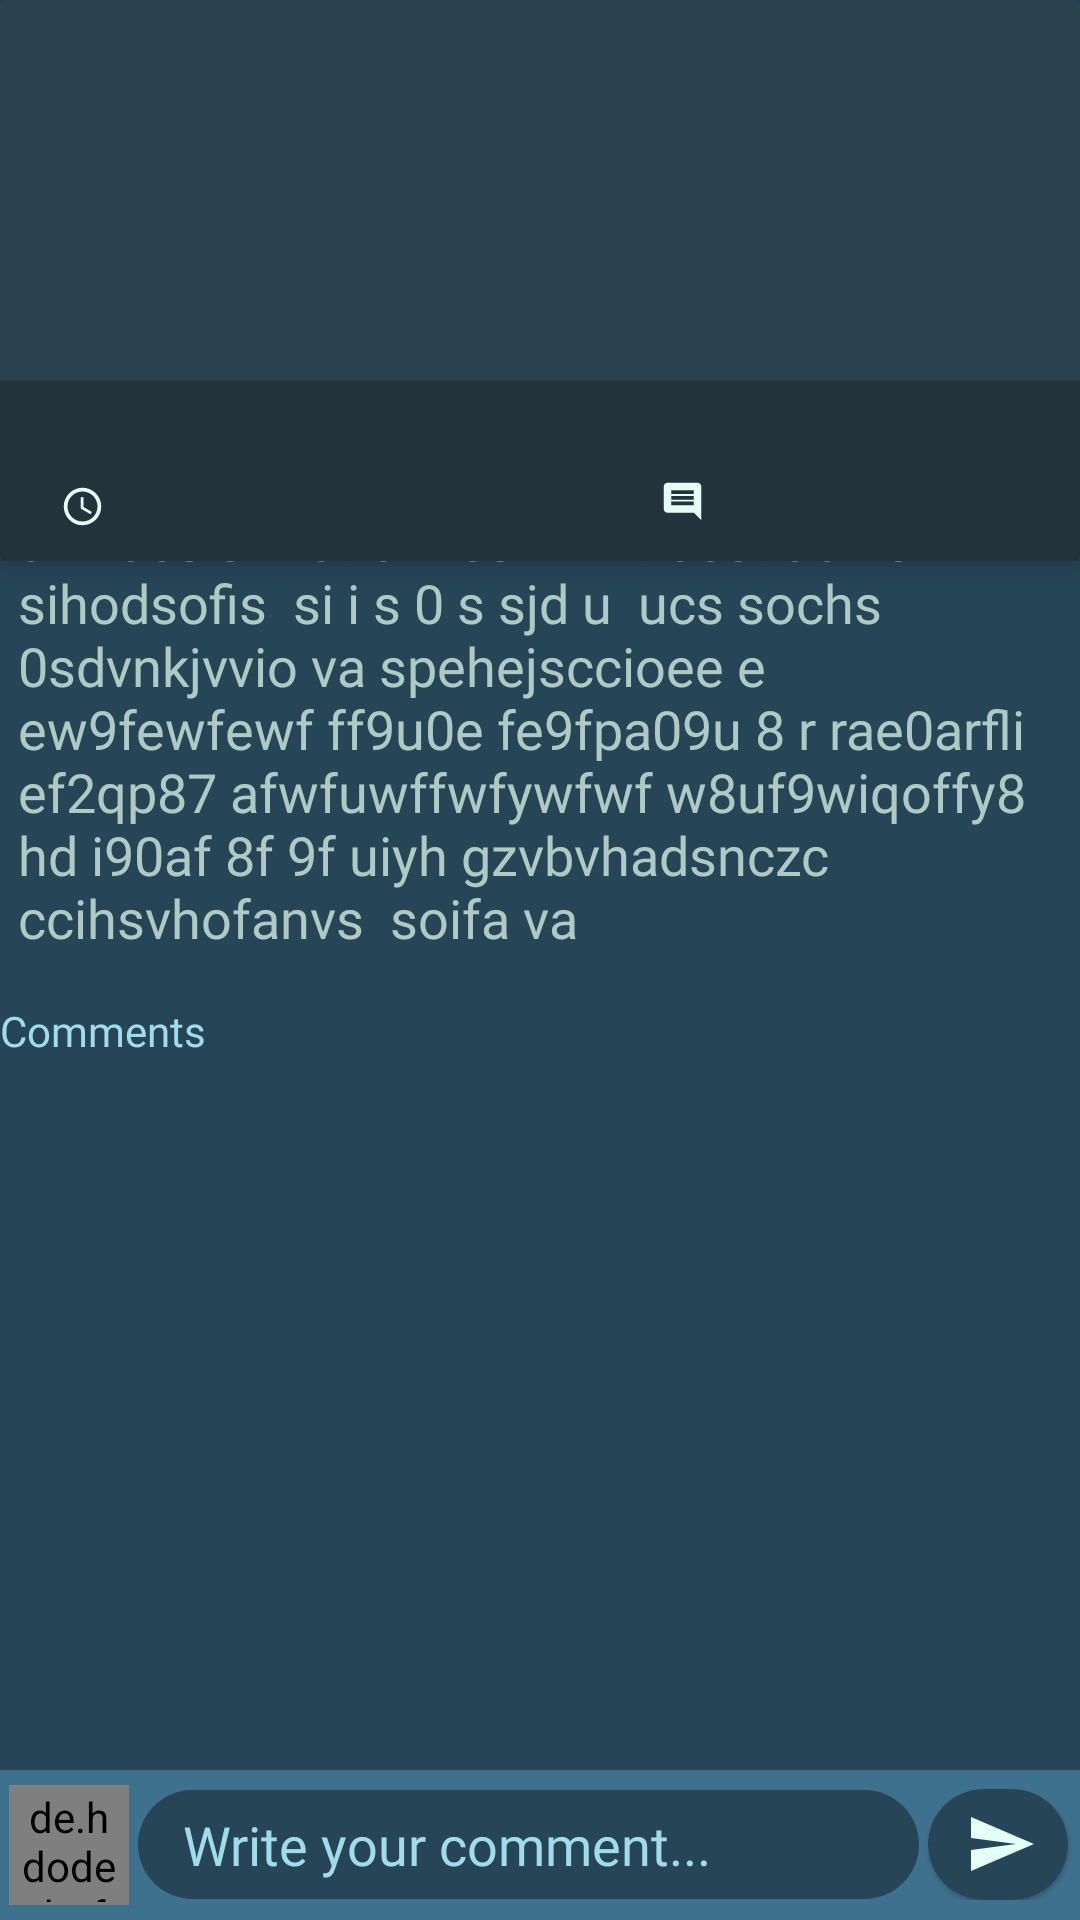

Where icons sit on this 1080×1920 app screen, as (x1, y1, x2, y2):
access time: (63, 487, 102, 526)
comment: (663, 482, 702, 520)
send: (971, 1817, 1034, 1871)
